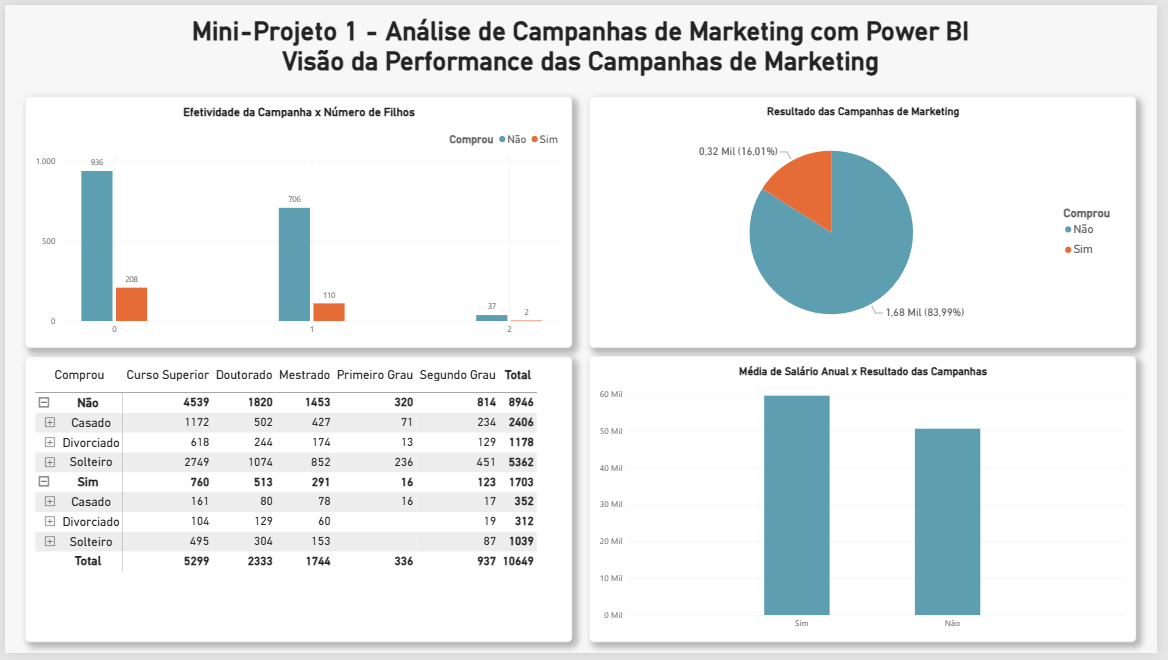

The page's visual inventory and layout, read from the dashboard file:
{"tool":"powerbi","page":{"name":"Visão Campanhas","canvas":[1920,1080],"ordinal":2},"visuals":[{"type":"textbox","box":[276.7,0,1365,128.3],"z":0},{"type":"pieChart","title":"Resultado das Campanhas de Marketing","fields":{"Category":["dados_marketing.Comprou"],"Y":["CountNonNull(dados_marketing.ID)"]},"box":[973.3,151.7,911.7,420],"z":1},{"type":"columnChart","title":"Média de Salário Anual x Resultado das Campanhas","fields":{"Category":["dados_marketing.Comprou"],"Y":["Avg(dados_marketing.Salario Anual)"]},"box":[973.3,585,911.7,476.7],"z":2},{"type":"pivotTable","fields":{"Columns":["dados_marketing.Escolaridade"],"Rows":["dados_marketing.Comprou","dados_marketing.Estado Civil","dados_marketing.Pais"],"Values":["Sum(dados_marketing.Numero Visitas WebSite Mes)"]},"box":[33.3,585,911.7,476.7],"z":3},{"type":"clusteredColumnChart","title":"Efetividade da Campanha x Número de Filhos","fields":{"Category":["dados_marketing.Filhos em Casa"],"Series":["dados_marketing.Comprou"],"Y":["CountNonNull(dados_marketing.Filhos em Casa)"]},"box":[33.3,151.7,911.7,420],"z":4}]}

Visuals, with their boxes in screenshot pixels (x1, y1, x2, y2), scaled from the page's 1920x1080 canvas onto the 1168x660 screenshot:
textbox: <bbox>168, 0, 999, 78</bbox>
"Resultado das Campanhas de Marketing" pieChart: <bbox>592, 93, 1147, 349</bbox>
"Média de Salário Anual x Resultado das Campanhas" columnChart: <bbox>592, 358, 1147, 649</bbox>
pivotTable - dados_marketing.Escolaridade x dados_marketing.Comprou: <bbox>20, 358, 575, 649</bbox>
"Efetividade da Campanha x Número de Filhos" clusteredColumnChart: <bbox>20, 93, 575, 349</bbox>
